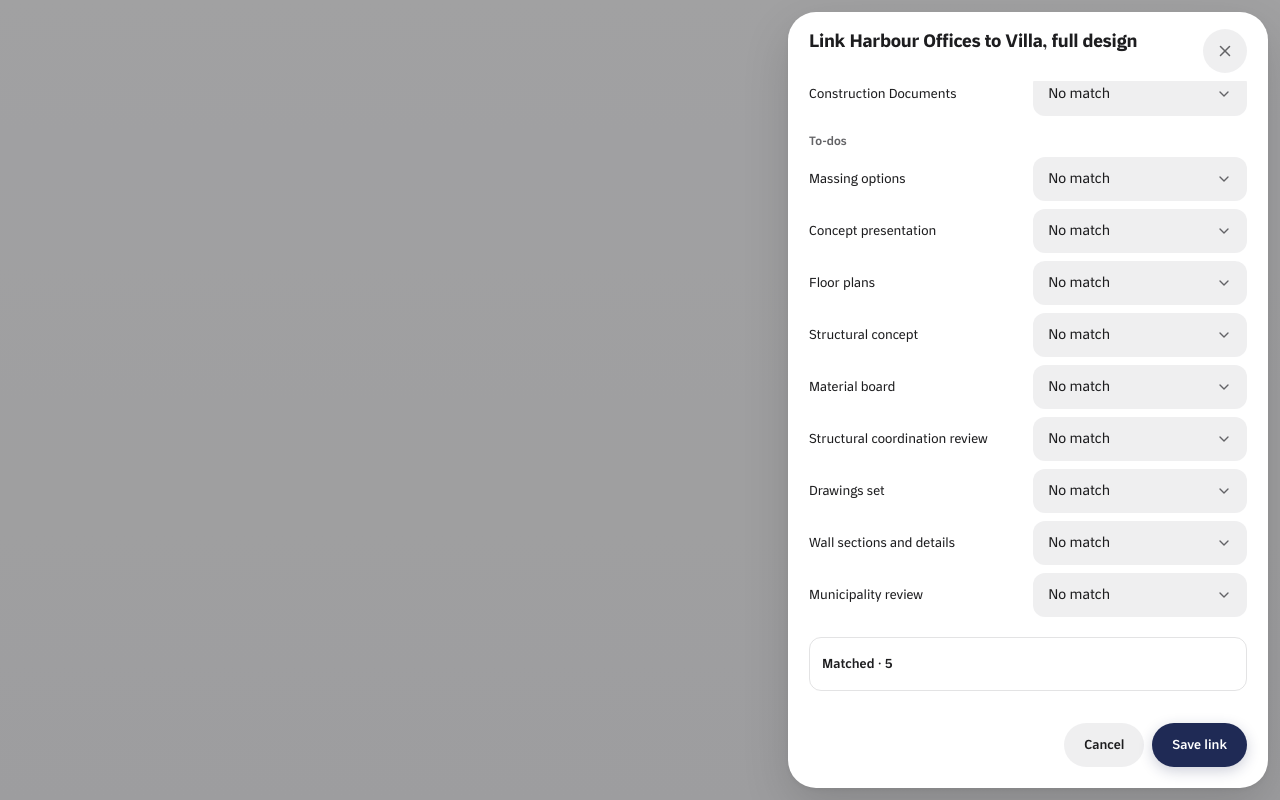
Test: Link an older project › says that the new parts get no dates when the project has no start date
(page scrolled)
Click the heading "Matched · 5": (857, 663) [822,655,893,671]
(page scrolled)
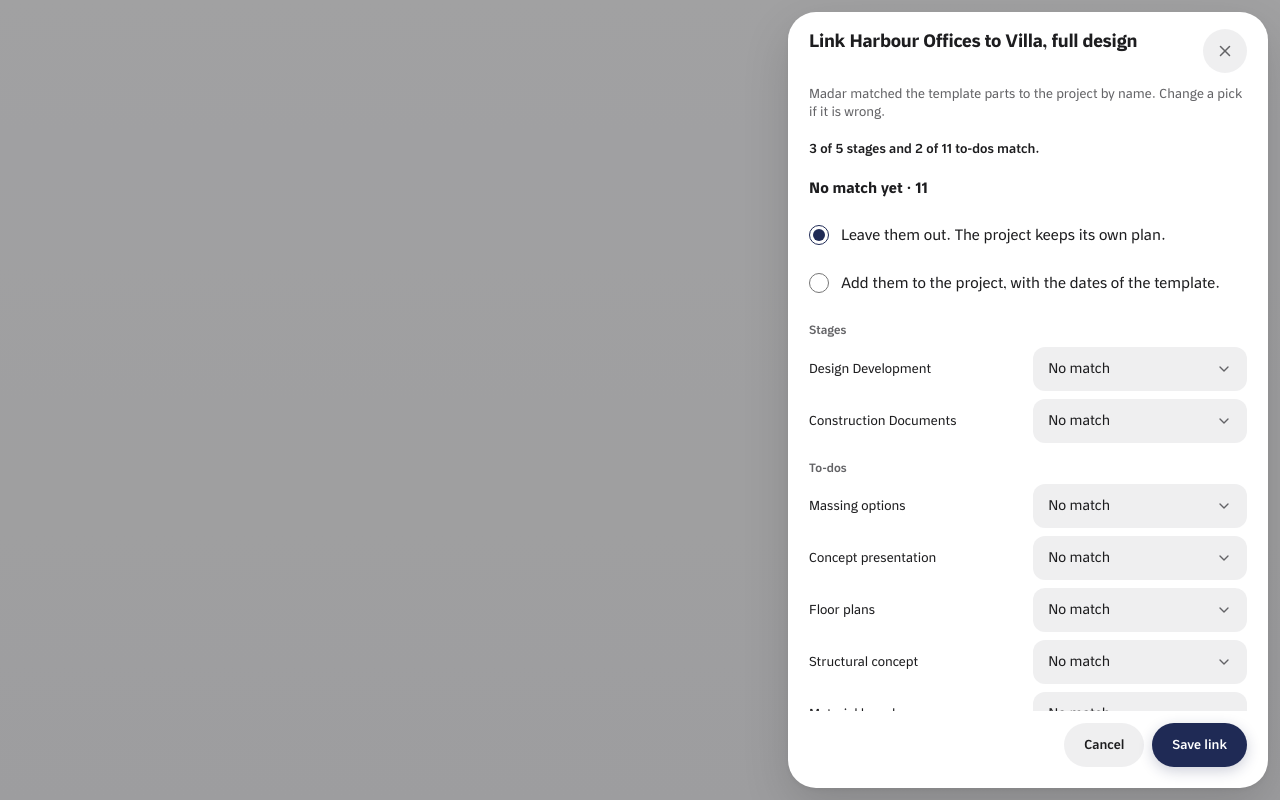
Click the radio button labelled "Add them to the project, with the dates of the template.": (819, 283) [809,273,829,293]
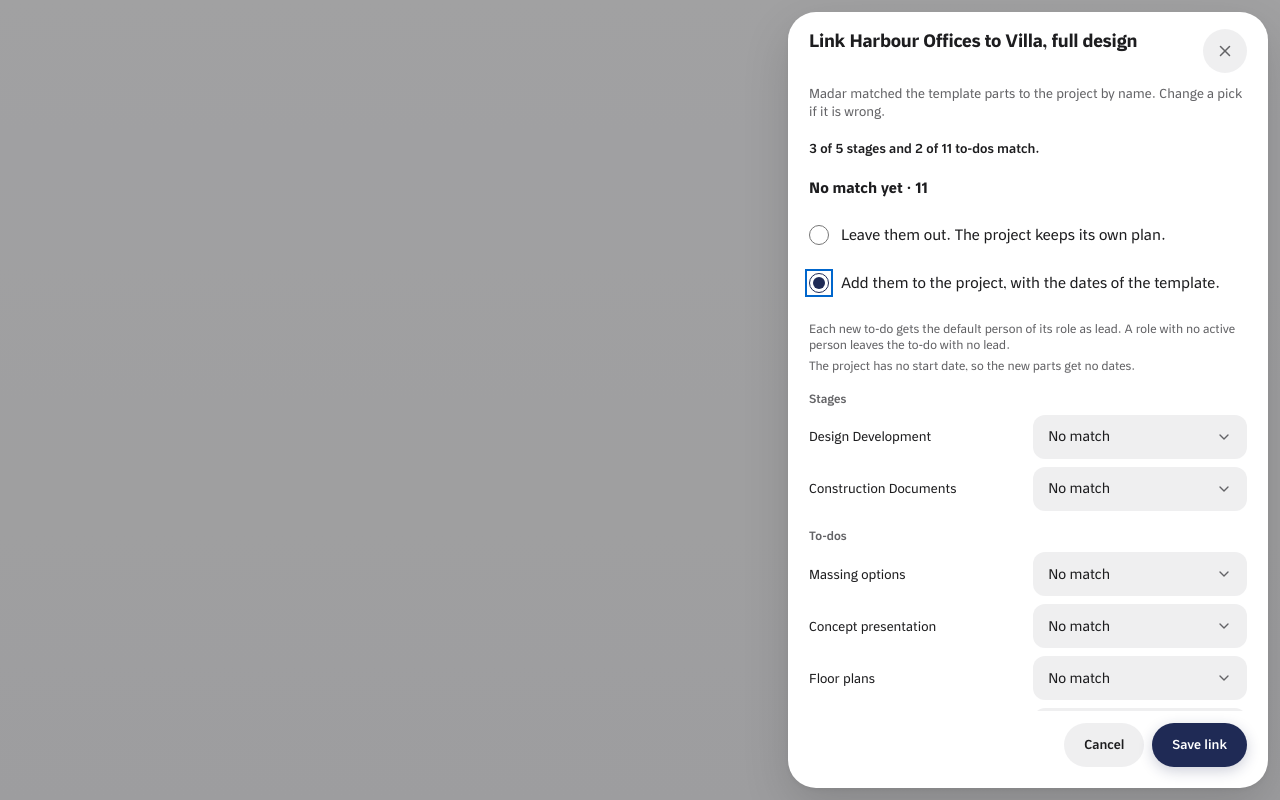
Result: the text "The project has no start date, so the new parts get no dates." is shown at [809,358,1135,372]
